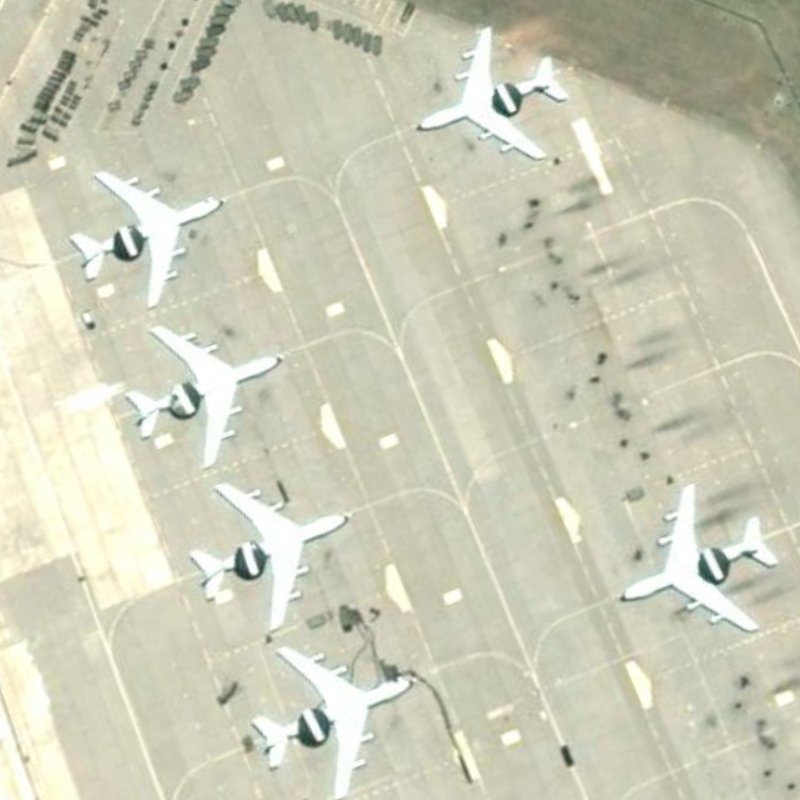A7: (244, 640, 425, 800), (187, 474, 360, 638), (120, 316, 294, 473), (614, 478, 783, 638), (61, 163, 237, 315), (406, 17, 571, 165)
